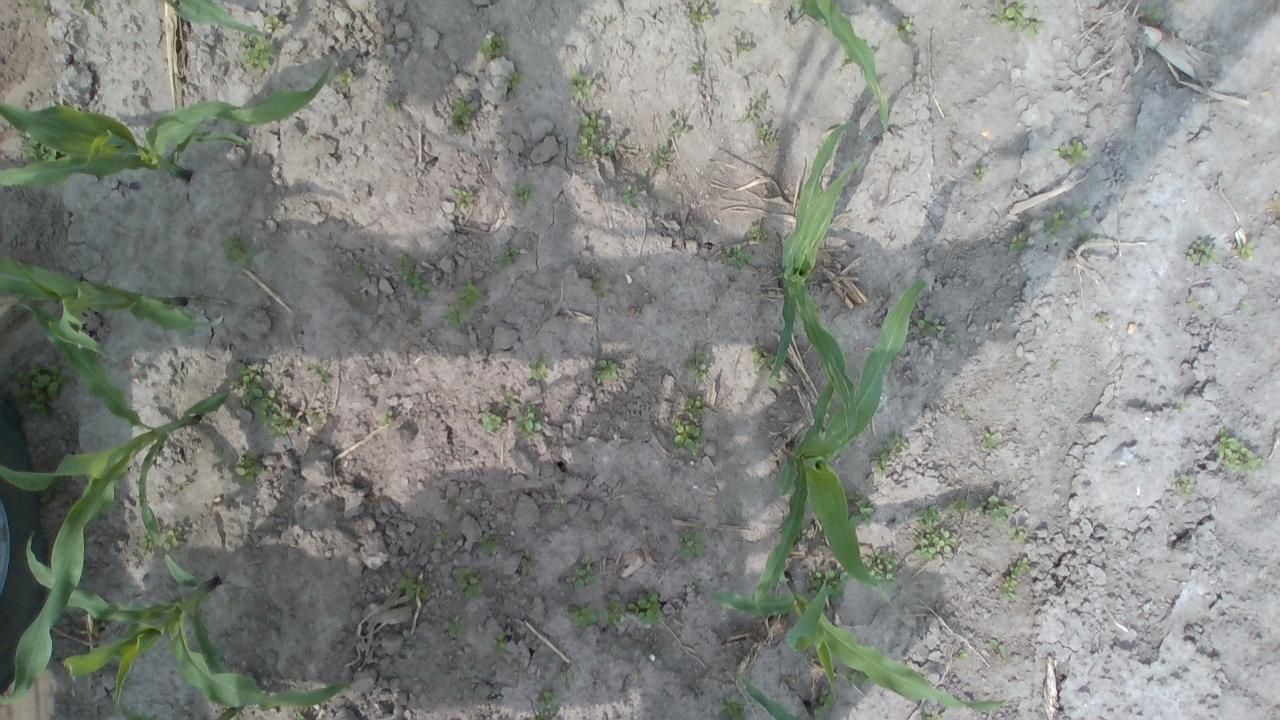Maize: (0, 297, 224, 702), (21, 530, 351, 717), (751, 283, 924, 613), (686, 563, 1006, 720), (0, 61, 336, 190), (765, 122, 861, 444), (0, 255, 226, 362), (788, 0, 894, 135), (735, 670, 821, 720), (159, 0, 263, 40), (120, 703, 246, 720)
Weeds: (225, 364, 306, 438), (10, 360, 74, 417), (1216, 430, 1264, 476), (987, 0, 1043, 38), (238, 31, 280, 74), (861, 545, 898, 593), (868, 433, 909, 473), (808, 564, 848, 604), (572, 112, 606, 158), (398, 254, 432, 297), (912, 528, 956, 559), (626, 591, 666, 624), (974, 496, 1014, 528), (1000, 557, 1030, 599), (844, 492, 876, 528), (674, 416, 704, 454), (448, 96, 476, 136), (232, 454, 263, 490), (137, 528, 181, 553), (222, 237, 256, 267), (452, 567, 482, 600), (515, 403, 544, 437), (399, 574, 434, 602), (1185, 239, 1218, 268), (454, 278, 488, 306), (676, 530, 706, 561), (810, 686, 836, 719), (568, 70, 593, 104), (479, 34, 509, 62), (916, 312, 946, 340), (685, 352, 711, 384), (1044, 209, 1072, 238), (1057, 138, 1086, 166), (534, 690, 560, 720), (724, 244, 751, 272), (439, 304, 468, 330), (566, 606, 598, 628), (599, 599, 626, 625), (750, 344, 776, 370), (573, 562, 598, 589), (718, 697, 747, 720), (746, 92, 767, 123), (1138, 0, 1164, 25), (20, 130, 40, 162), (594, 358, 618, 383), (916, 504, 942, 527), (480, 408, 502, 434), (495, 246, 522, 267), (526, 356, 549, 380), (845, 667, 870, 688), (754, 126, 778, 147), (1174, 472, 1198, 493), (336, 68, 356, 93), (895, 16, 914, 42), (666, 112, 688, 134), (687, 6, 711, 26), (445, 615, 465, 639), (513, 184, 535, 204), (478, 533, 497, 556), (622, 186, 640, 210), (1008, 231, 1027, 253), (684, 396, 704, 416), (453, 188, 473, 208), (503, 70, 524, 89), (745, 222, 767, 240), (947, 496, 970, 513), (492, 631, 509, 654), (39, 142, 58, 162), (734, 35, 752, 56), (978, 431, 999, 449), (652, 144, 668, 166), (990, 639, 1008, 658), (922, 705, 944, 720), (590, 278, 606, 298), (315, 365, 331, 385), (519, 550, 531, 576), (352, 262, 369, 280), (1238, 241, 1254, 260), (1008, 526, 1024, 544), (861, 38, 876, 56), (1078, 232, 1097, 246), (559, 670, 572, 689), (954, 648, 969, 664), (262, 14, 282, 26), (26, 0, 41, 16), (434, 529, 448, 545), (971, 167, 986, 181), (1186, 296, 1201, 310), (602, 140, 616, 154), (408, 309, 423, 322), (383, 98, 400, 109), (796, 526, 808, 540), (686, 63, 700, 74), (840, 51, 851, 65), (551, 498, 563, 510), (1078, 207, 1088, 220), (382, 411, 392, 424), (766, 372, 776, 384), (72, 1, 82, 13), (1096, 314, 1108, 323), (1174, 402, 1184, 412), (1238, 300, 1248, 310), (1052, 359, 1062, 368), (302, 136, 312, 144), (294, 714, 304, 720)
